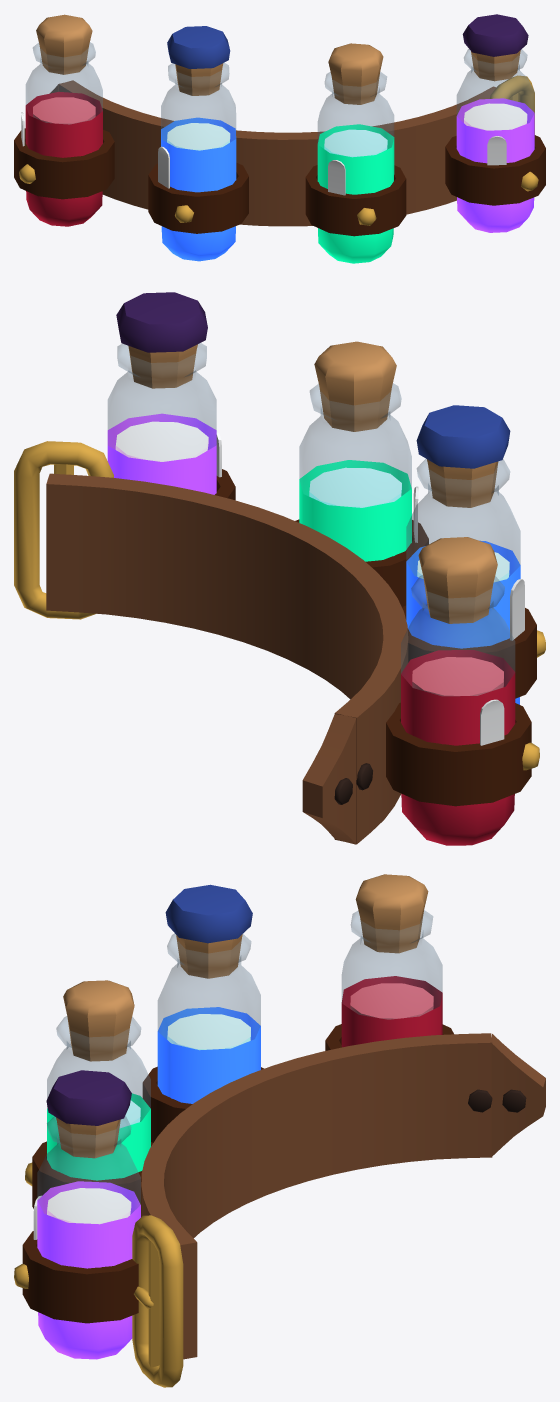
File: item_pouch_alchemist.glb
3 renders of one model, top to bottom at view 1: azimuth 30°, elevation 25°; view 2: azimuth 150°, elevation 25°; view 3: azimuth 270°, elevation 25°, orthographic. The views are drawn at different scales.
Parts seen in each view (by area): view 1: PouchAlchemist; view 2: PouchAlchemist; view 3: PouchAlchemist.
Boxes of the visible parts, bbox=[...] form: PouchAlchemist: bbox=[14, 14, 545, 263]; PouchAlchemist: bbox=[14, 292, 545, 845]; PouchAlchemist: bbox=[14, 874, 545, 1387].
Bounding box in the file's own units: 0.3 × 0.1469 × 0.2403.
